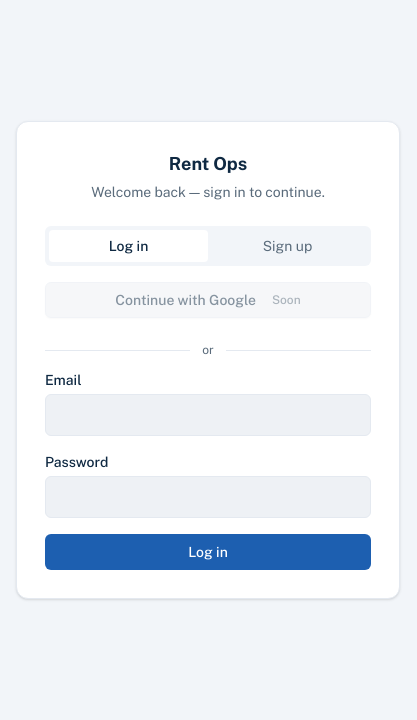
Test: auth card toggle › swaps to the signup form when the Sign up tab is clicked
Click the button with aria-label "Switch to sign up" at (288, 246), box x1=208 y1=230 x2=367 y2=262
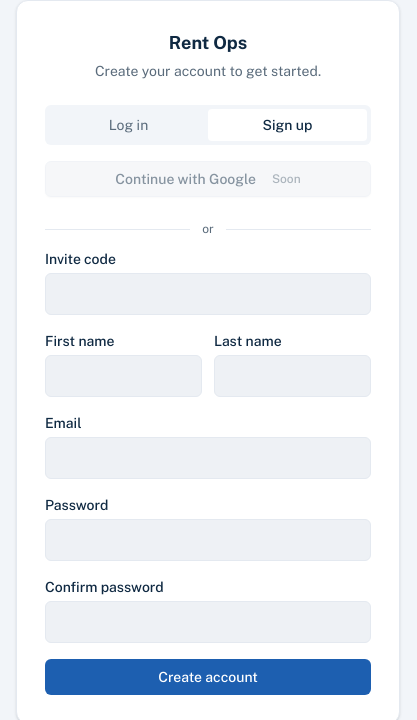
Now the field labelled "Invite code" is shown, box x1=45 y1=273 x2=371 y2=315
Now the field labelled "First name" is shown, box x1=45 y1=355 x2=202 y2=397
Now the field labelled "Last name" is shown, box x1=214 y1=355 x2=371 y2=397
